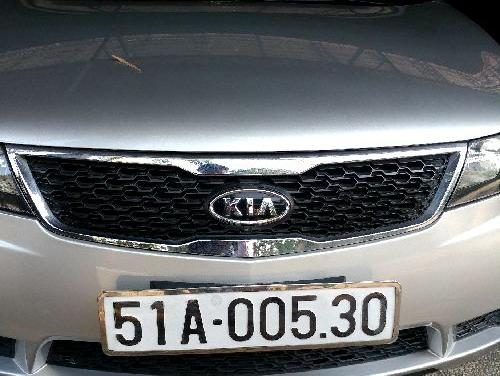lisence: (96, 277, 406, 358)
